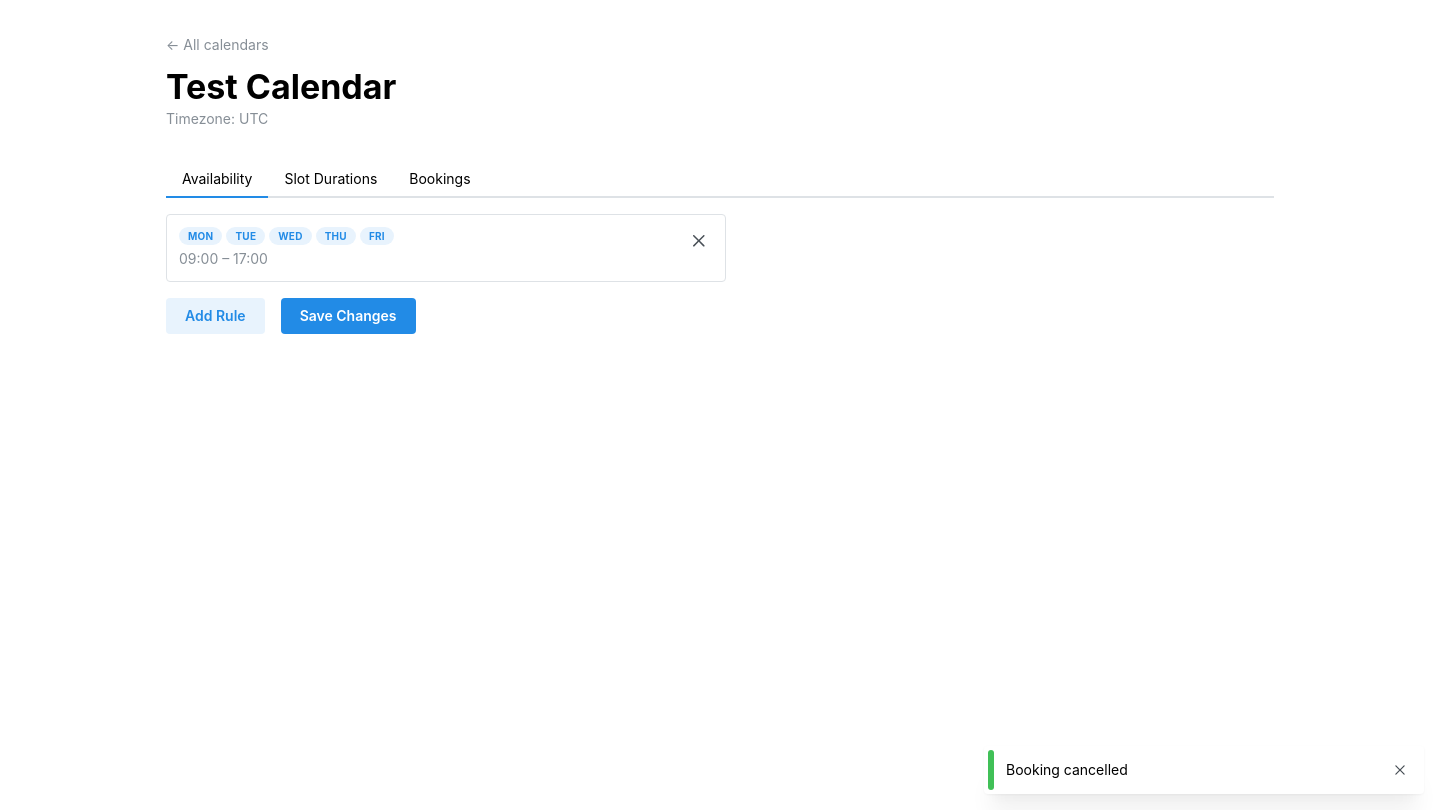
Scenario: ManagePage › Bookings tab › shows "no bookings" when list is empty
This screenshot has width=1440, height=810.
Expected: the heading "Test Calendar" is shown, [166,66,396,107]
Click the tab "Bookings" at (440,180), box [393,162,487,198]
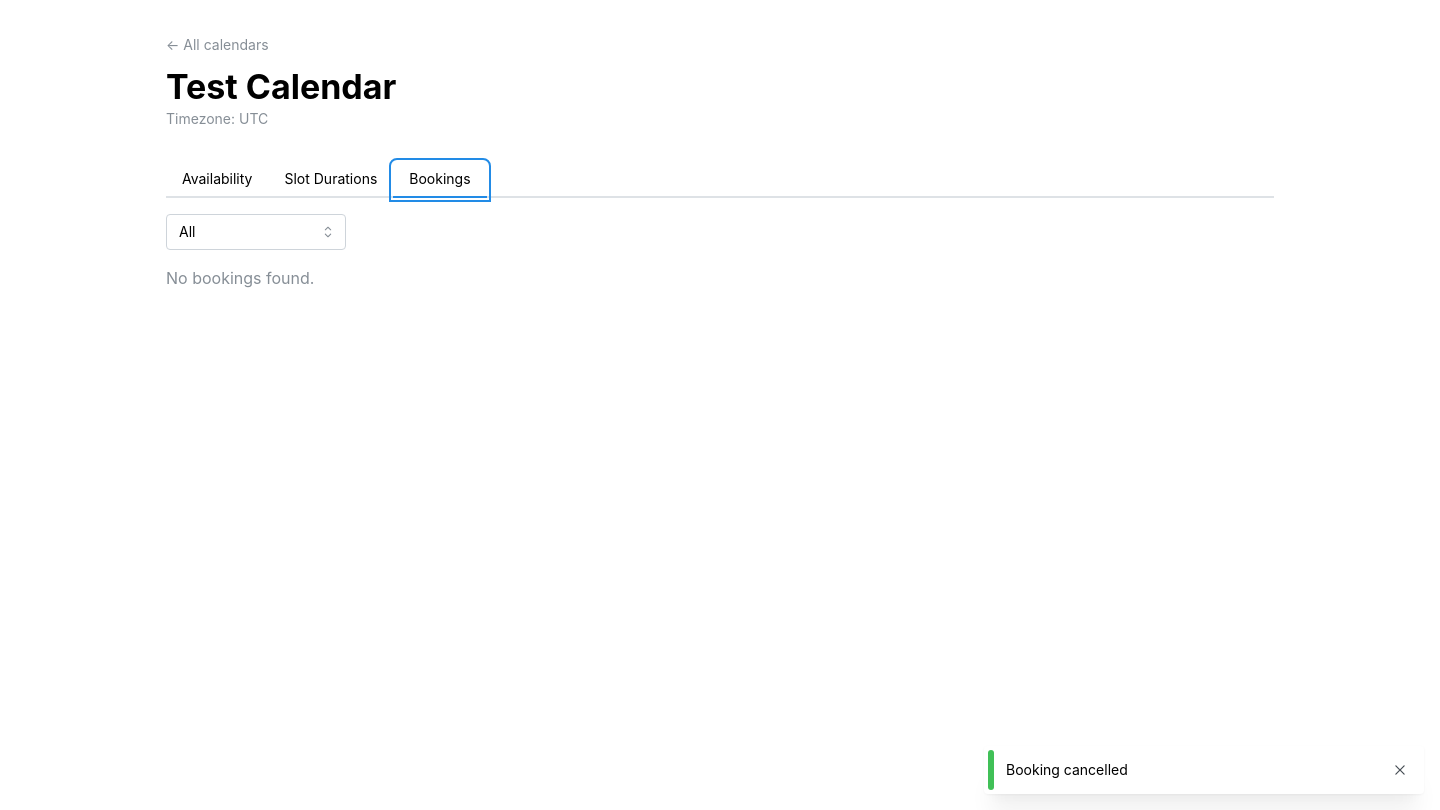
Now the text "No bookings found." is shown, box [166,268,314,288]
